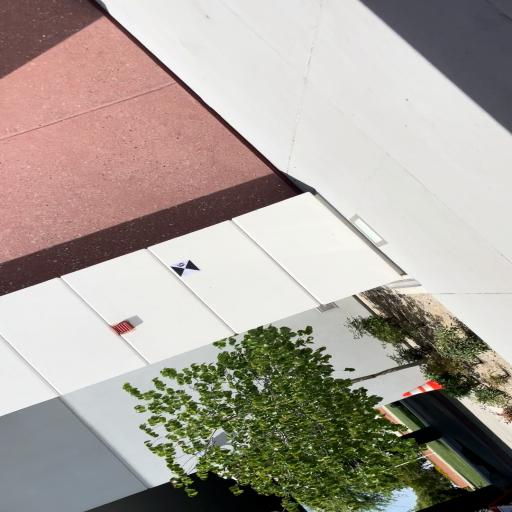target6: (169, 259, 202, 277)
